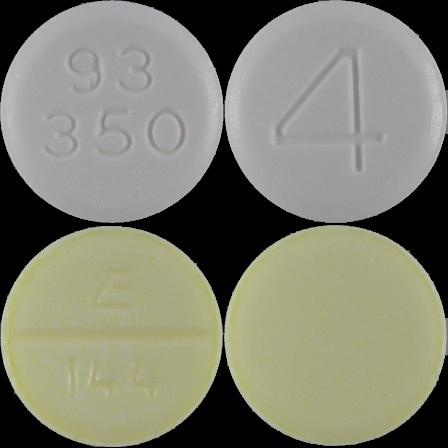61786-304: (0, 0, 224, 224)
